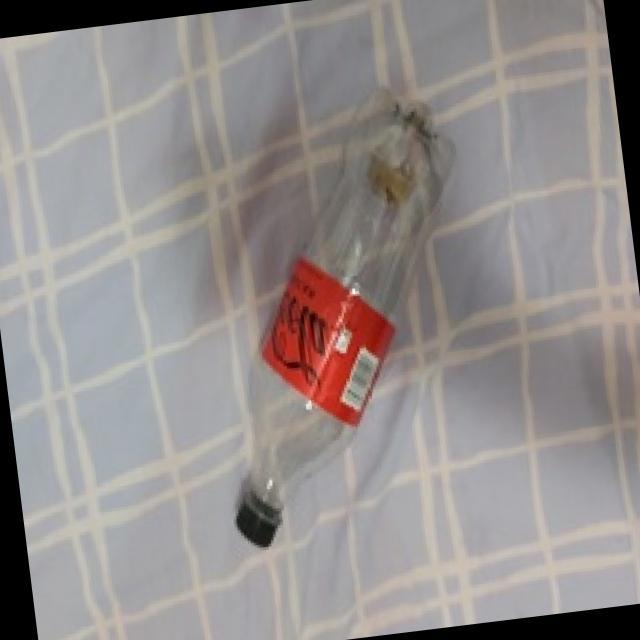good: (179, 82, 514, 552)
